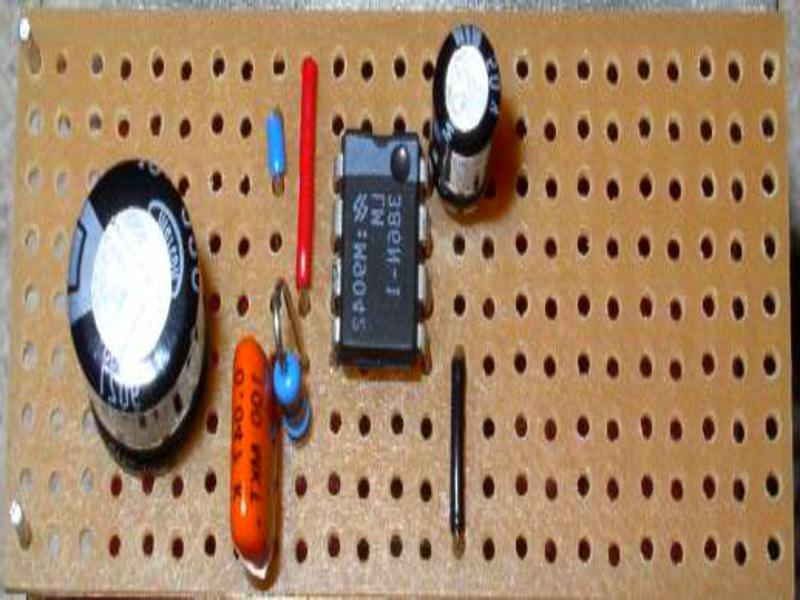Capacitor: (58, 153, 217, 479), (422, 18, 509, 213)
Resistor: (265, 326, 319, 451)
